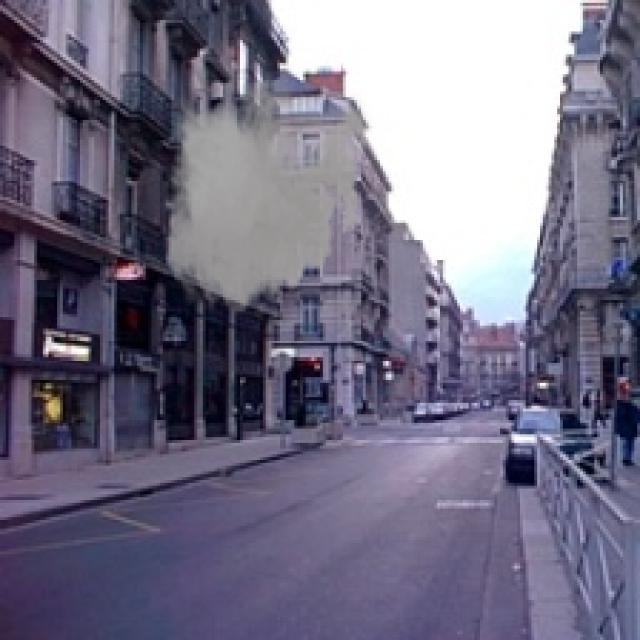smoke: (157, 63, 374, 323)
